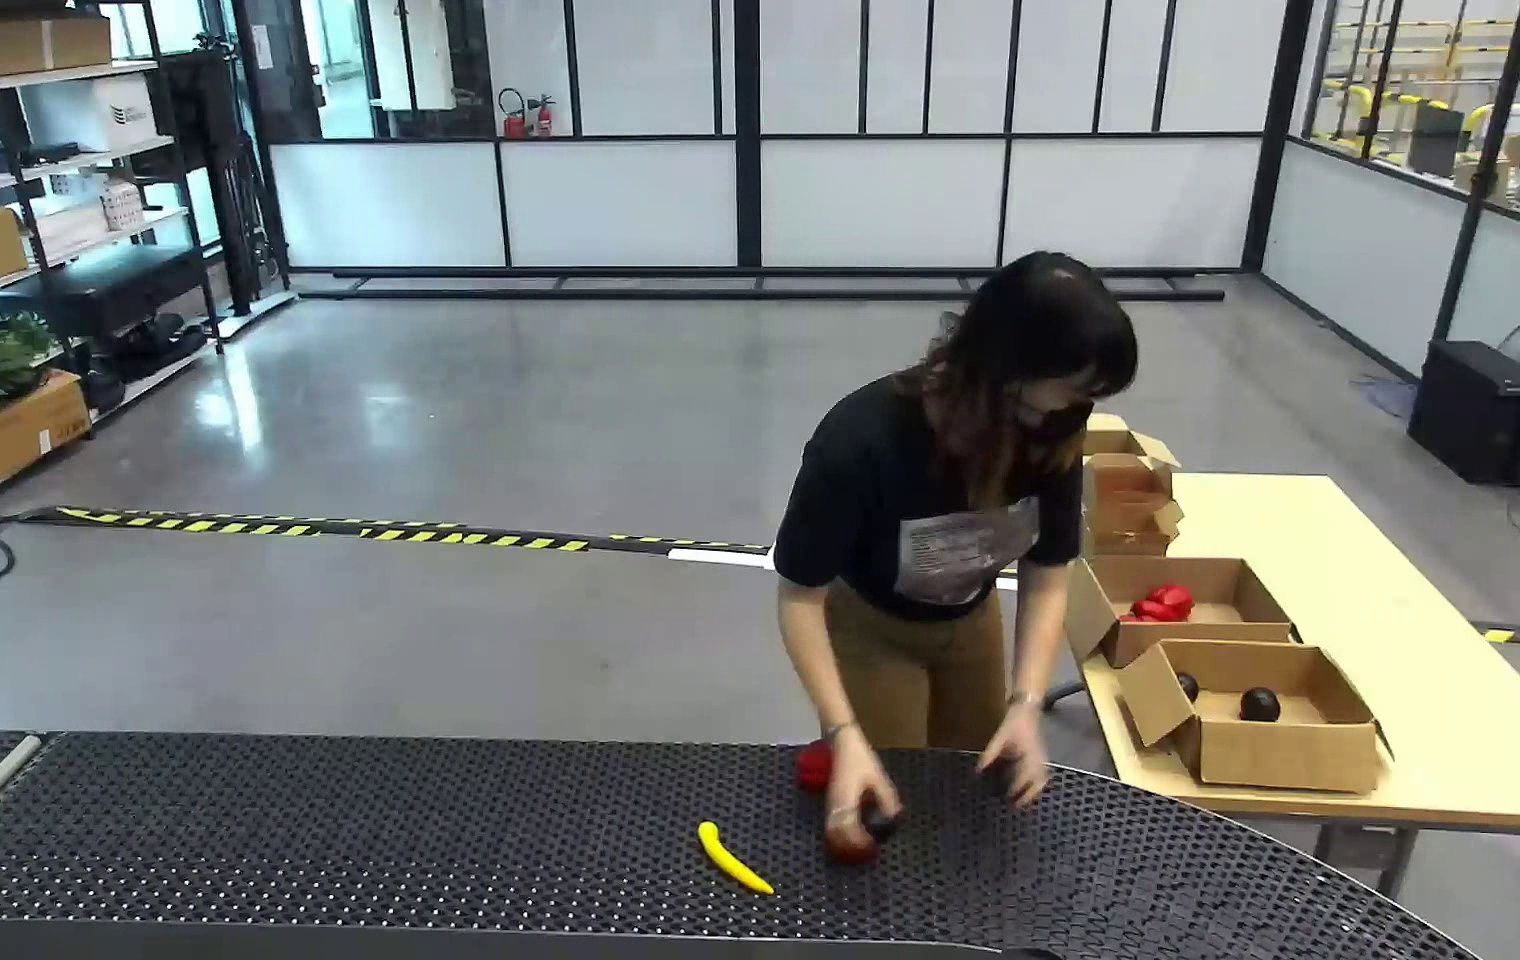Main droite: (819, 729, 900, 854)
